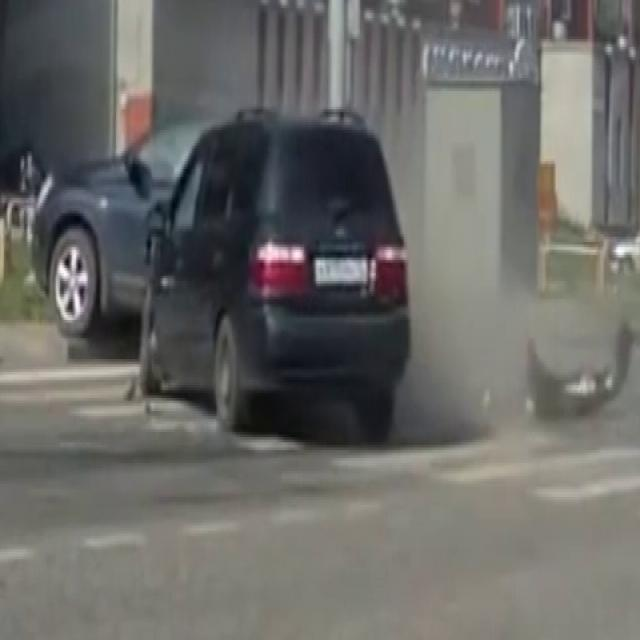accident: (59, 119, 373, 447)
